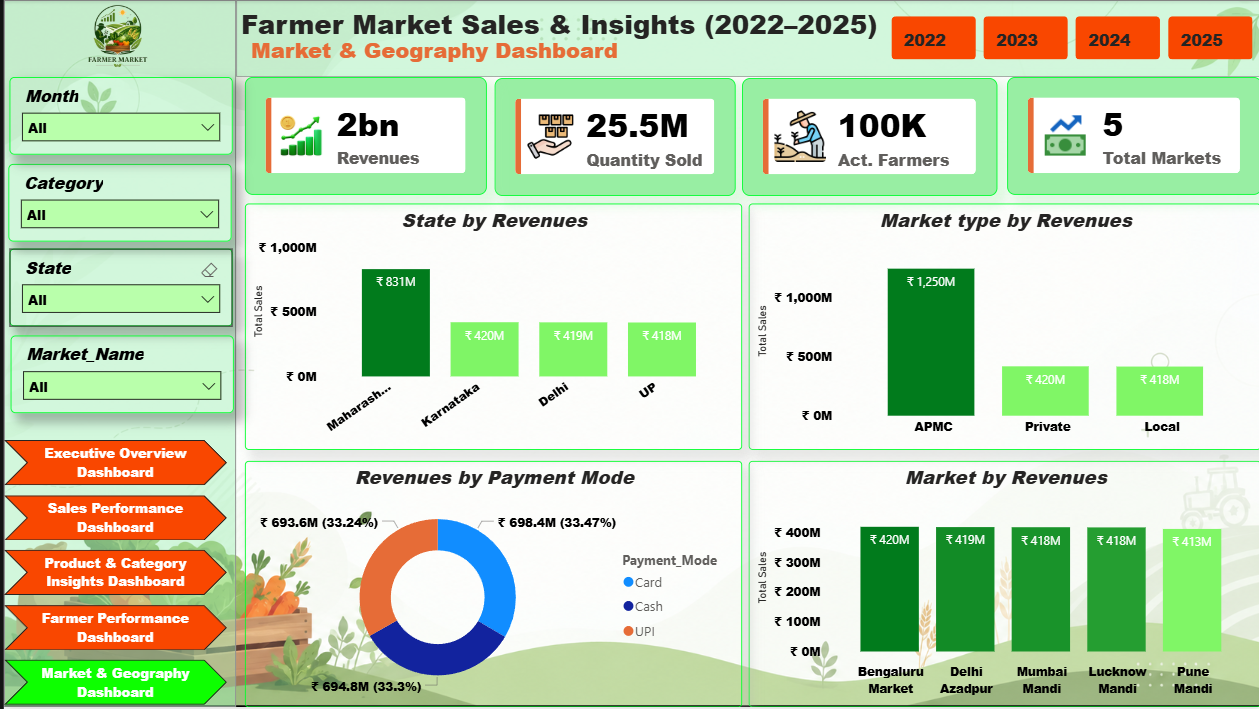

Layout of this report page (visuals, bound fields, positions):
{"tool":"powerbi","page":{"name":" Market & Geography Dashboard","canvas":[1280,720],"ordinal":4},"visuals":[{"type":"shape","box":[236.3,0,1044,78.4],"z":0},{"type":"shape","box":[0,0,236.3,720.2],"z":1000},{"type":"textbox","box":[236.3,0,660.9,59.4],"z":2000},{"type":"textbox","box":[246.4,30.2,405.5,48.2],"z":3000},{"type":"image","box":[57.1,0,117.6,79.5],"z":4000},{"type":"cardVisual","fields":{"Data":["Sum(farmmarket_Dataset.Quantity_Sold)"]},"box":[499.6,79.5,245.3,119.8],"z":5000},{"type":"cardVisual","fields":{"Data":["CountNonNull(farmmarket_Dataset.Farmer_ID)"]},"box":[751.6,79.5,259.9,119.8],"z":6000},{"type":"cardVisual","fields":{"Data":["Count(farmmarket_Dataset.Market_ID)"]},"box":[1021.6,78.4,258.8,119.9],"z":7000},{"type":"cardVisual","fields":{"Data":["Sum(farmmarket_Dataset.Total_Sales)"]},"box":[245.3,78.4,246.4,119.9],"z":8000},{"type":"slicer","fields":{"Values":["farmmarket_Dataset.Category"]},"box":[4.5,166.9,227.4,79.5],"z":9000},{"type":"slicer","fields":{"Values":["farmmarket_Dataset.Date.Variation.Date Hierarchy.Month"]},"box":[5.6,78.4,227.4,79.5],"z":10000},{"type":"slicer","fields":{"Values":["farmmarket_Dataset.State"]},"box":[5.6,253.2,227.4,79.5],"z":11000},{"type":"columnChart","title":"Market by Revenues","fields":{"Category":["farmmarket_Dataset.Market_Name"],"Y":["farmmarket_Dataset.Total Sales"]},"box":[758.3,469.3,522,250.9],"z":12000},{"type":"columnChart","title":"Market type by Revenues","fields":{"Category":["farmmarket_Dataset.Market_Type"],"Y":["farmmarket_Dataset.Total Sales"]},"box":[758.3,207.2,522,250.9],"z":13000},{"type":"columnChart","title":"State by Revenues","fields":{"Category":["farmmarket_Dataset.State"],"Y":["farmmarket_Dataset.Total Sales"]},"box":[245.3,207.2,506.3,250.9],"z":14000},{"type":"pieChart","title":"Revenues by Payment Mode","fields":{"Category":["farmmarket_Dataset.Payment_Mode"],"Y":["farmmarket_Dataset.Total Sales"]},"box":[245.3,469.3,506.3,250.9],"z":15000},{"type":"advancedSlicerVisual","fields":{"Values":["farmmarket_Dataset.Date.Variation.Date Hierarchy.Year"]},"box":[898.3,11.2,379.7,54.9],"z":16000},{"type":"pageNavigator","box":[0,447.8,227.4,272.2],"z":17000},{"type":"slicer","fields":{"Values":["farmmarket_Dataset.Market_Name"]},"box":[6.7,341.6,227.4,79.5],"z":18000}]}

Visuals, with their boxes in screenshot pixels (x1, y1, x2, y2), scaled from the page's 1280x720 canvas onto the 1259x709 screenshot:
shape: <box>232,0,1258,77</box>
shape: <box>0,0,232,708</box>
textbox: <box>232,0,882,58</box>
textbox: <box>242,30,641,77</box>
image: <box>56,0,172,78</box>
cardVisual - Sum(farmmarket_Dataset.Quantity_Sold): <box>491,78,733,196</box>
cardVisual - CountNonNull(farmmarket_Dataset.Farmer_ID): <box>739,78,995,196</box>
cardVisual - Count(farmmarket_Dataset.Market_ID): <box>1005,77,1258,195</box>
cardVisual - Sum(farmmarket_Dataset.Total_Sales): <box>241,77,484,195</box>
slicer - farmmarket_Dataset.Category: <box>4,164,228,243</box>
slicer - farmmarket_Dataset.Date.Variation.Date Hierarchy.Month: <box>6,77,229,155</box>
slicer - farmmarket_Dataset.State: <box>6,249,229,328</box>
"Market by Revenues" columnChart: <box>746,462,1258,708</box>
"Market type by Revenues" columnChart: <box>746,204,1258,451</box>
"State by Revenues" columnChart: <box>241,204,739,451</box>
"Revenues by Payment Mode" pieChart: <box>241,462,739,708</box>
advancedSlicerVisual - farmmarket_Dataset.Date.Variation.Date Hierarchy.Year: <box>884,11,1257,65</box>
pageNavigator: <box>0,441,224,708</box>
slicer - farmmarket_Dataset.Market_Name: <box>7,336,230,415</box>
